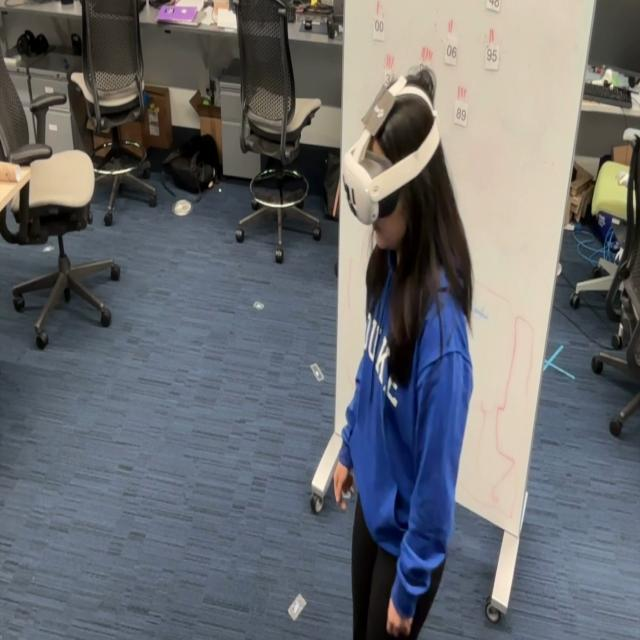Headset: (341, 70, 441, 226)
UnityLogo: (364, 86, 407, 142)
